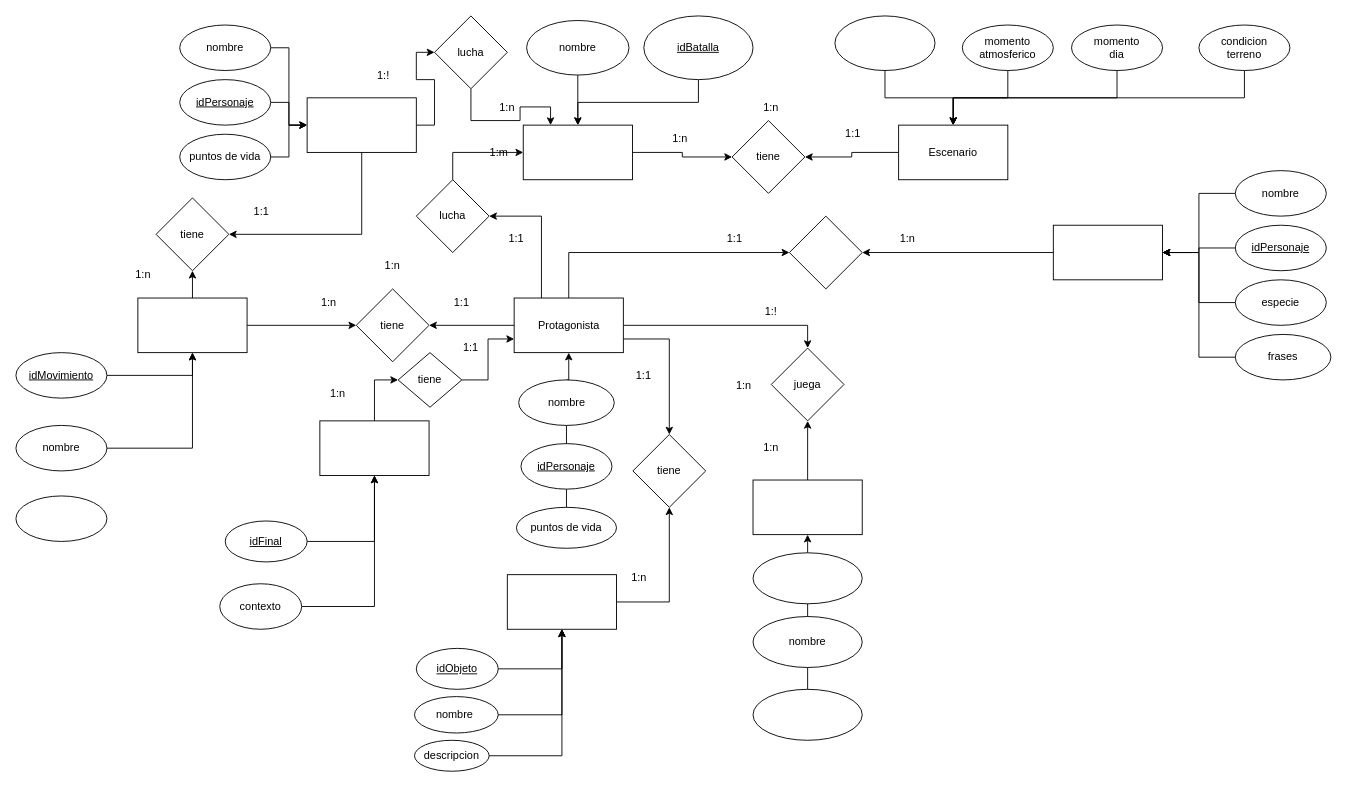
Some shapes in this 1347 by 787 pixel diagram are drawn without their labels. The centre of each missing label's shape, as x and y in pixels:
Ataque: the point at 192,325
Batalla: the point at 577,152
daño: the point at 61,518
enemigo: the point at 361,124
Final: the point at 374,447
habla: the point at 825,252
idEscenario: the point at 884,43
isPuzzlw: the point at 807,578
Objetos Inventario: the point at 561,601
Personaje Secundario NPC: the point at 1107,252
puntuacion: the point at 807,714
puzzle: the point at 807,507
